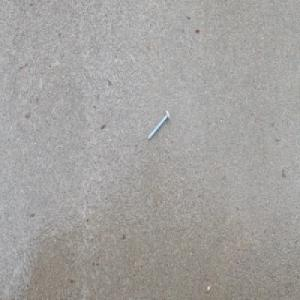Nail: (147, 108, 171, 141)
